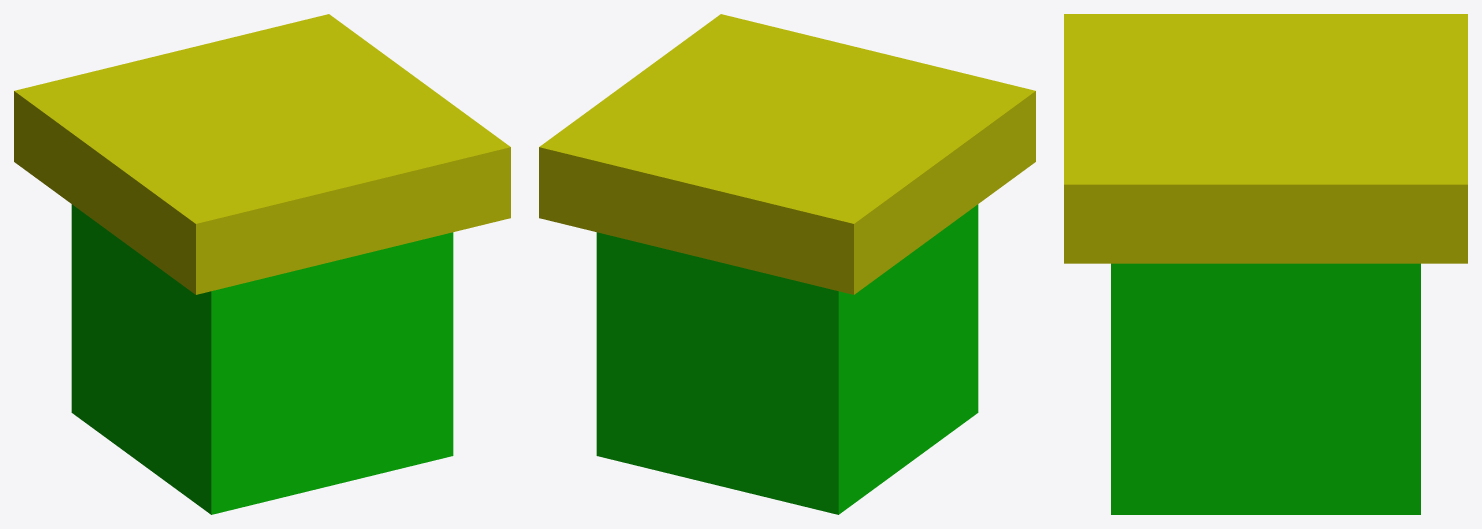
File: ImportedMaterialTest.fbx
3 renders of one model, left to right at view 1: azimuth 30°, elevation 25°; view 2: azimuth 150°, elevation 25°; view 3: azimuth 270°, elevation 25°, orthographic. The views are drawn at different scales.
Visible parts, largest first — view 1: Cube.001, Cube; view 2: Cube.001, Cube; view 3: Cube.001, Cube.
Part boxes in pixels (box(x1,y1,x2,y2)): Cube.001: box(14, 14, 510, 294); Cube: box(71, 204, 453, 514); Cube.001: box(539, 14, 1035, 294); Cube: box(596, 204, 978, 514); Cube.001: box(1064, 14, 1467, 263); Cube: box(1111, 263, 1420, 514).
Size of what is drawn, in the model's own units: 2.6 by 2.49 by 2.6.
